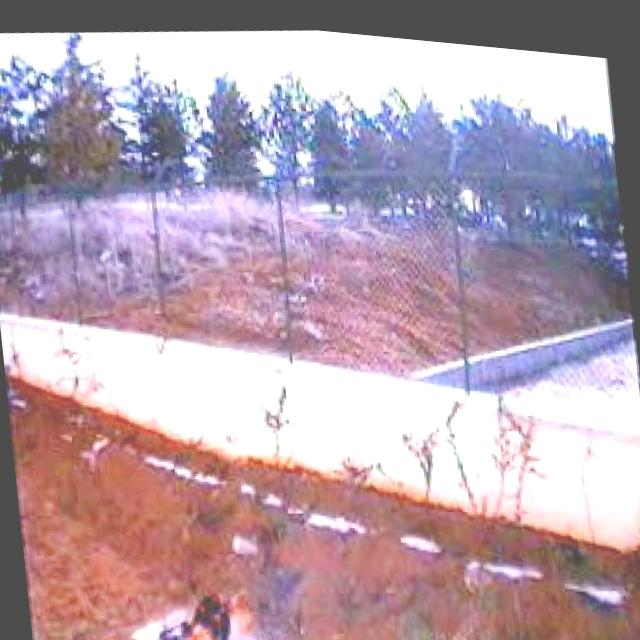helmet: (138, 567, 264, 640)
